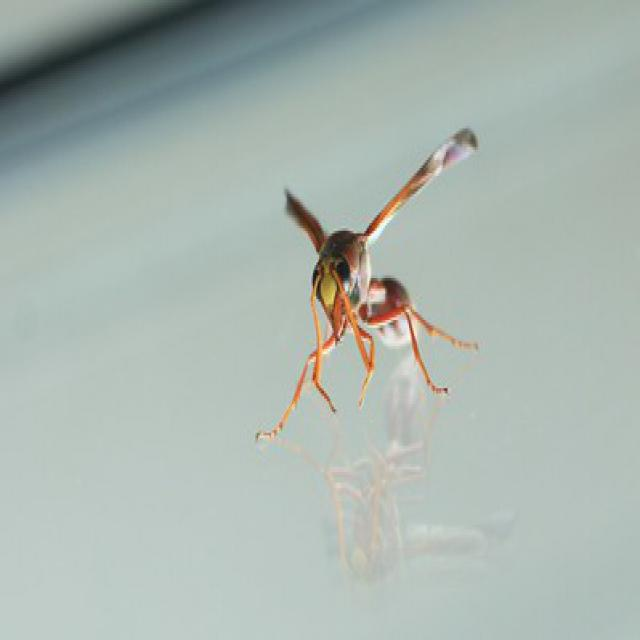Guepe: (240, 120, 495, 434)
